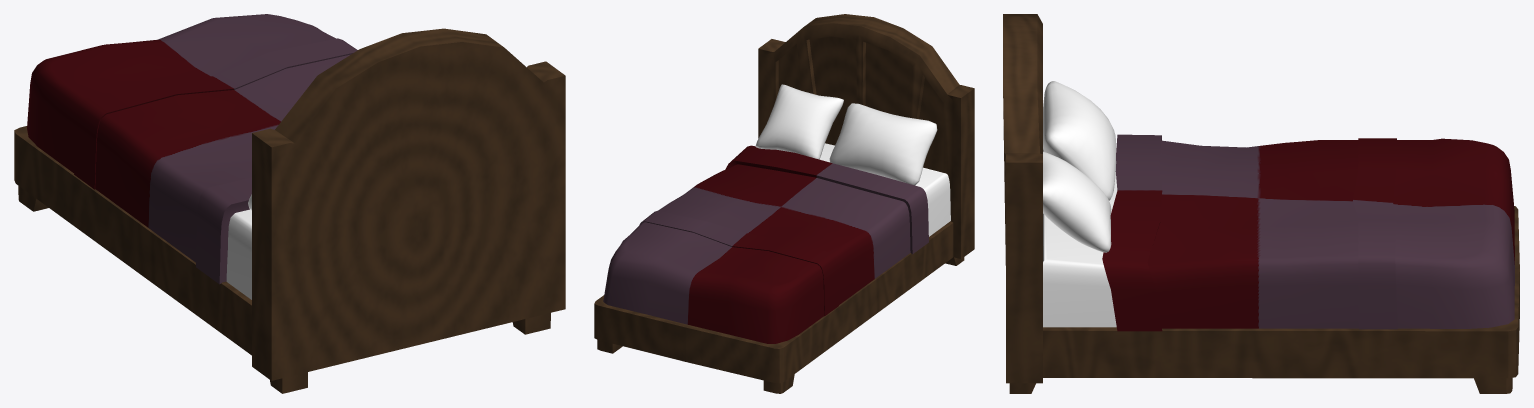
File: Terromino - Bedroom.fbx
3 renders of one model, left to right at view 1: azimuth 30°, elevation 25°; view 2: azimuth 150°, elevation 25°; view 3: azimuth 270°, elevation 25°, orthographic. The views are drawn at different scales.
Parts seen in each view (by area): view 1: Bed - Board, Bed - Matress.001, Bed - Matress; view 2: Bed - Matress.001, Bed - Board, Pillow.L, Pillow.S, Bed - Matress; view 3: Bed - Matress.001, Bed - Board, Bed - Matress, Pillow.L, Pillow.S.
Part boxes in pixels (x1,y1,x2,y2): Bed - Board: (14, 28, 565, 393); Bed - Matress.001: (27, 14, 357, 284); Bed - Matress: (226, 209, 251, 299); Bed - Matress.001: (603, 145, 928, 343); Bed - Board: (594, 14, 974, 393); Pillow.L: (829, 103, 937, 185); Pillow.S: (755, 84, 843, 159); Bed - Matress: (819, 143, 950, 236); Bed - Matress.001: (1102, 134, 1514, 331); Bed - Board: (1003, 14, 1519, 393); Bed - Matress: (1043, 146, 1117, 327); Pillow.L: (1043, 81, 1116, 200); Pillow.S: (1043, 151, 1111, 252).
Size of the model in its own units: 373 by 385 by 601.
3 materials, 2 textured.
